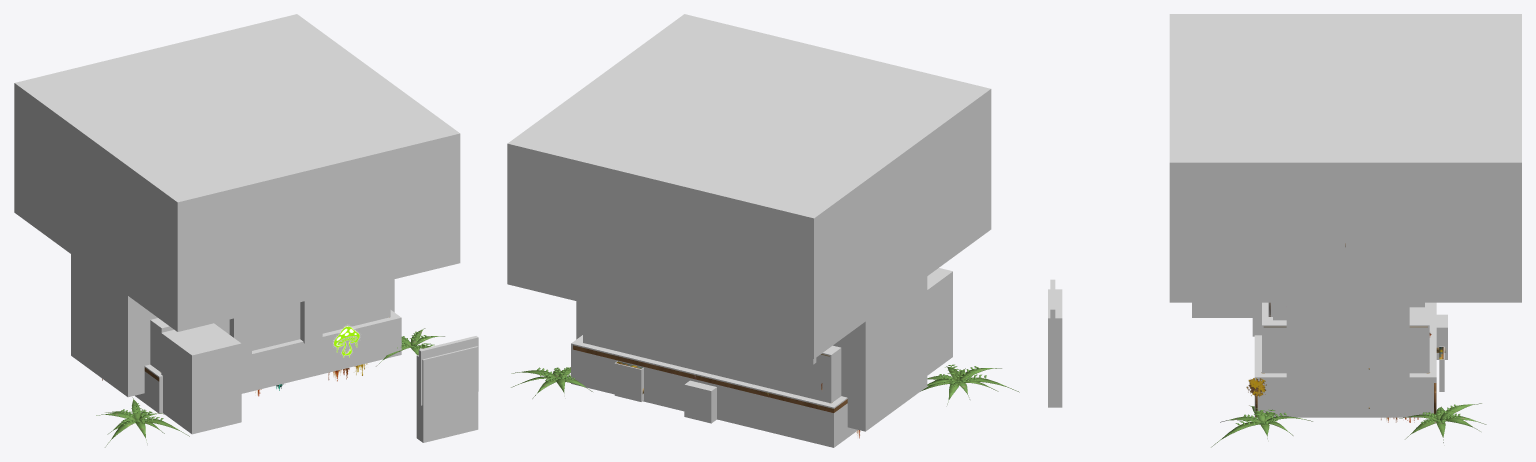
File: landing_kiosk.glb
The picture shows the model from 3 angles, left to right: view 1: azimuth 30°, elevation 25°; view 2: azimuth 150°, elevation 25°; view 3: azimuth 270°, elevation 25°; orthographic projection. The views are drawn at different scales.
Visible parts, largest first — view 1: col_bld_landing_kiosk_saucer, col_bld_landing_kiosk_pipes, col_bld_landing_kiosk_stairs, col_bld_landing_kiosk_platform, col_bld_landing_kiosk_rail, col_bld_landing_kiosk_SIGN_t_sign_posts, landing_kiosk_body_a, col_bld_LAMP_post_cyan_i.001, col_bld_landing_kiosk_SIGN_t_sign, col_bld_LAMP_post_cyan_i, landing_kiosk_body_b, landing_kiosk_plain; view 2: col_bld_landing_kiosk_saucer, col_bld_landing_kiosk_rail, col_bld_landing_kiosk_pipes, col_bld_landing_kiosk_platform, col_bld_landing_kiosk_stairs, landing_kiosk_body_b, col_bld_WALL_vent_box_i.006, landing_kiosk_body_a, col_bld_WALL_grille_i.007; view 3: col_bld_landing_kiosk_saucer, col_bld_landing_kiosk_pipes, col_bld_landing_kiosk_platform, col_bld_landing_kiosk_rail, landing_kiosk_body_b, col_bld_landing_kiosk_SIGN_t_sign_posts, col_bld_landing_kiosk_stairs, col_bld_landing_kiosk_SIGN_t_sign, col_bld_WALL_vent_box_i.006.
Part boxes in pixels (x1,y1,x2,y2): col_bld_landing_kiosk_saucer: (14,14,460,331); col_bld_landing_kiosk_pipes: (71,254,394,397); col_bld_landing_kiosk_stairs: (161,323,241,434); col_bld_landing_kiosk_platform: (135,310,401,413); col_bld_landing_kiosk_rail: (150,280,390,372); col_bld_landing_kiosk_SIGN_t_sign_posts: (416,346,478,442); landing_kiosk_body_a: (96,367,189,447); col_bld_LAMP_post_cyan_i.001: (300,297,322,343); col_bld_landing_kiosk_SIGN_t_sign: (418,336,478,405); col_bld_LAMP_post_cyan_i: (229,314,251,358); landing_kiosk_body_b: (376,317,444,366); landing_kiosk_plain: (333,324,359,357); col_bld_landing_kiosk_saucer: (507,14,991,358); col_bld_landing_kiosk_rail: (583,303,841,403); col_bld_landing_kiosk_pipes: (576,276,927,431); col_bld_landing_kiosk_platform: (571,335,857,447); col_bld_landing_kiosk_stairs: (927,268,952,375); landing_kiosk_body_b: (511,345,833,412); col_bld_WALL_vent_box_i.006: (684,380,716,423); landing_kiosk_body_a: (829,364,1019,412); col_bld_WALL_grille_i.007: (614,361,643,401); col_bld_landing_kiosk_saucer: (1169,14,1521,302); col_bld_landing_kiosk_pipes: (1286,302,1409,410); col_bld_landing_kiosk_platform: (1254,302,1436,417); col_bld_landing_kiosk_rail: (1262,302,1429,373); landing_kiosk_body_b: (1211,243,1486,447); col_bld_landing_kiosk_SIGN_t_sign_posts: (1048,289,1062,407); col_bld_landing_kiosk_stairs: (1192,302,1252,317); col_bld_landing_kiosk_SIGN_t_sign: (1050,279,1055,368); col_bld_WALL_vent_box_i.006: (1436,314,1447,359).
Bounding box in the file's own units: 7.74 × 5.24 × 8.07.
23 materials, 8 textured.
